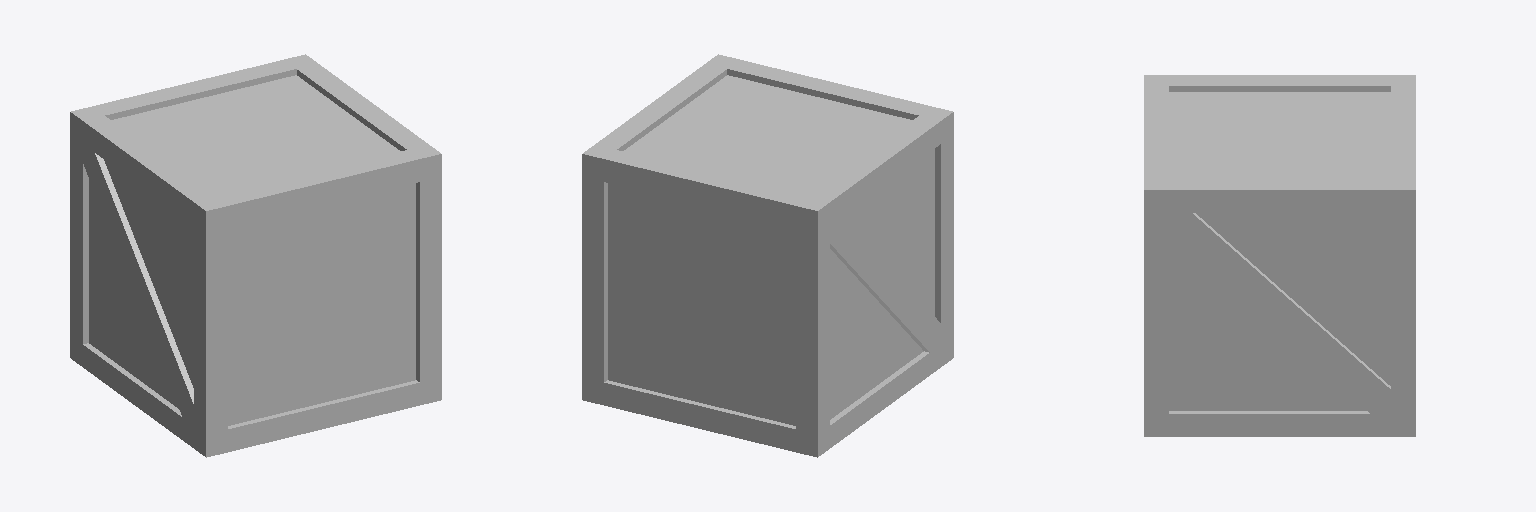
File: crateJack.obj
3 renders of one model, left to right at view 1: azimuth 30°, elevation 25°; view 2: azimuth 150°, elevation 25°; view 3: azimuth 270°, elevation 25°, orthographic.
Visible parts, largest first — view 1: Cube; view 2: Cube; view 3: Cube.
Part boxes in pixels (x1,y1,x2,y2): Cube: (70,54,441,457); Cube: (582,54,953,457); Cube: (1144,75,1415,436).
Size of the model in its own units: 100 by 100 by 100.